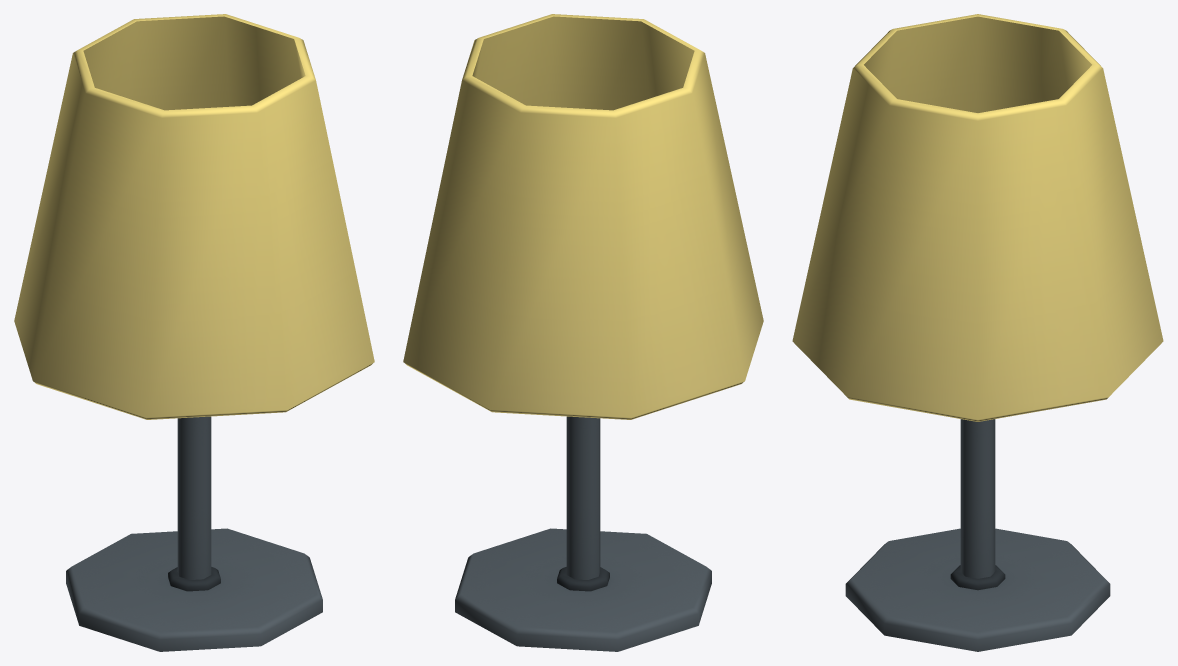
Rendered from Small_Lamp.fbx.
3 views of the same model, side by side, from view 1: azimuth 30°, elevation 25°; view 2: azimuth 150°, elevation 25°; view 3: azimuth 270°, elevation 25° (orthographic).
Visible parts, largest first — view 1: Small_Lamp; view 2: Small_Lamp; view 3: Small_Lamp.
Part boxes in pixels (bbox=[...]): Small_Lamp: bbox=[14, 14, 374, 651]; Small_Lamp: bbox=[403, 14, 763, 651]; Small_Lamp: bbox=[792, 14, 1163, 651].
Bounding box in the file's own units: 23.08 × 36.44 × 23.08.
1 material, 1 textured.
